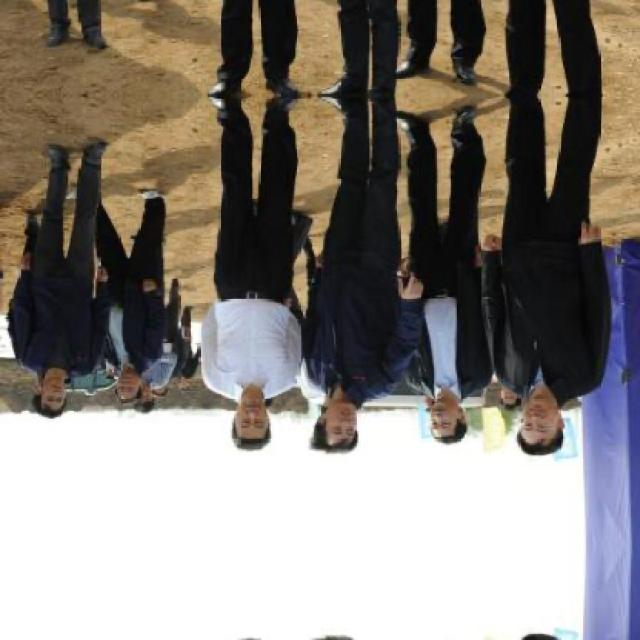sin casco: (305, 371, 399, 464), (493, 399, 593, 472), (208, 378, 294, 462), (20, 361, 94, 420), (412, 393, 470, 453), (120, 371, 153, 414)
